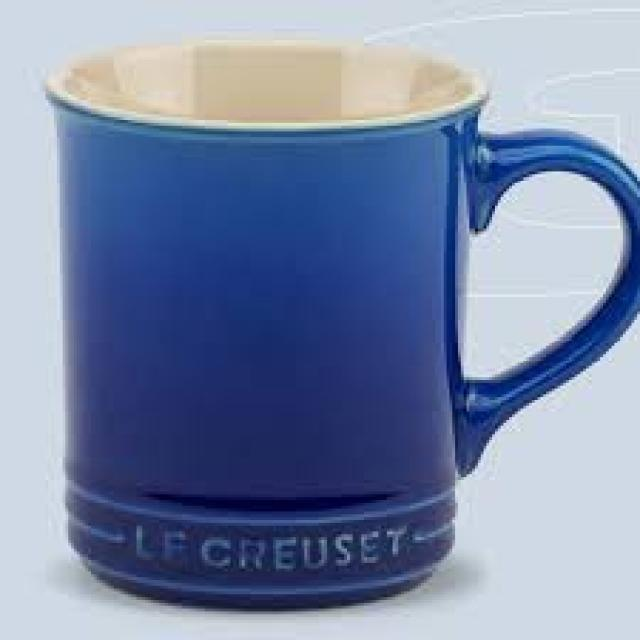taza: (42, 34, 640, 614)
